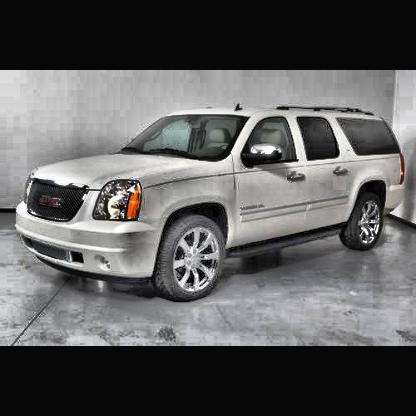GMC Yukon Hybrid SUV 2012: (16, 103, 409, 305)
